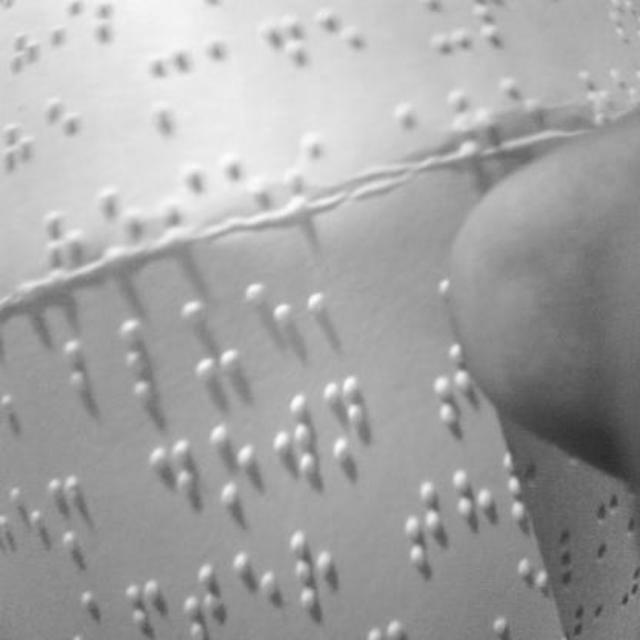braiile: (64, 328, 132, 434), (118, 316, 186, 408), (179, 296, 251, 380), (233, 540, 291, 640), (272, 385, 324, 495), (144, 432, 200, 534), (246, 271, 304, 369), (204, 423, 260, 521), (400, 473, 452, 577), (276, 9, 328, 112), (322, 371, 374, 472), (290, 525, 342, 623), (424, 340, 480, 430), (450, 463, 500, 563), (220, 29, 270, 127), (306, 262, 358, 351), (48, 470, 98, 560), (180, 550, 230, 640), (163, 44, 210, 138)
